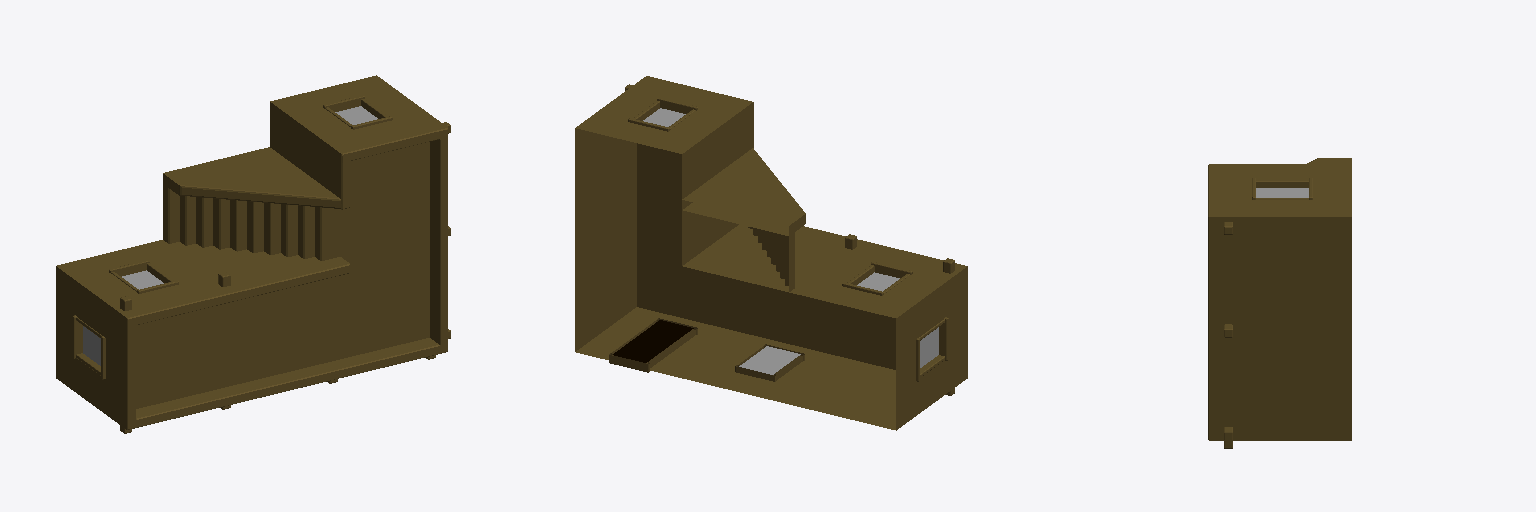
File: maison.obj
3 views of the same model, side by side, from view 1: azimuth 30°, elevation 25°; view 2: azimuth 150°, elevation 25°; view 3: azimuth 270°, elevation 25° (orthographic).
Visible parts, largest first — view 1: pCube34.001_Untitled.023; view 2: pCube34.001_Untitled.023; view 3: pCube34.001_Untitled.023.
Boxes of the visible parts, x1,y1,x2,y2 form: pCube34.001_Untitled.023: [56, 75, 450, 433]; pCube34.001_Untitled.023: [575, 76, 967, 430]; pCube34.001_Untitled.023: [1208, 158, 1351, 448].
Bounding box in the file's own units: 3.76 × 2.56 × 1.41.